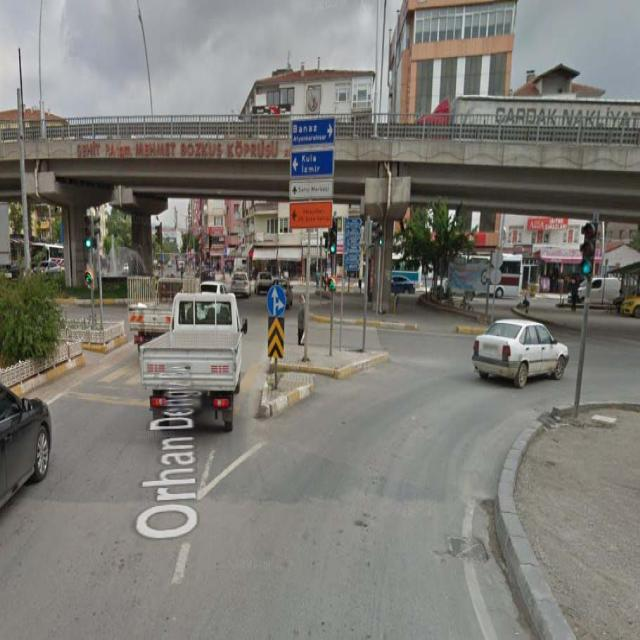ilerisag: (268, 285, 285, 318)
yesil: (583, 223, 594, 279), (328, 215, 338, 255), (84, 214, 93, 249)
